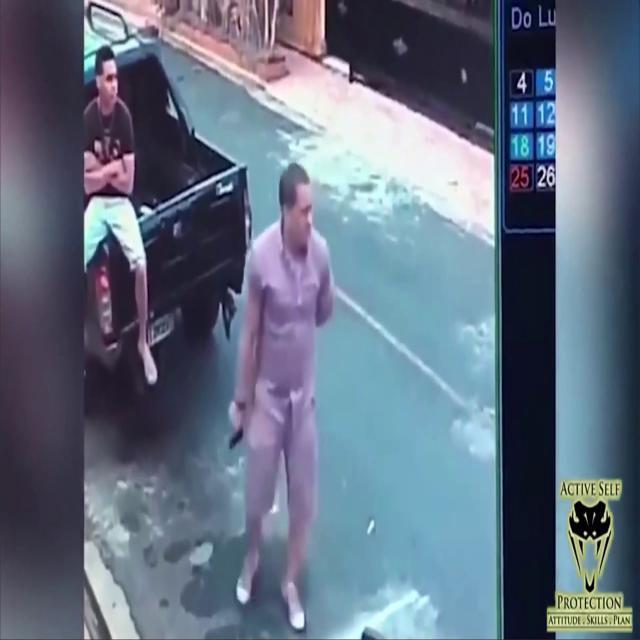gun: (230, 417, 244, 448)
